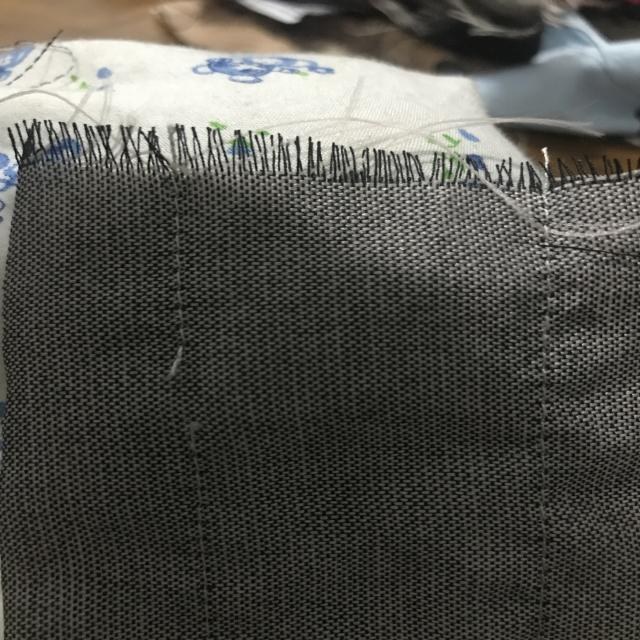broken: (153, 334, 220, 461)
